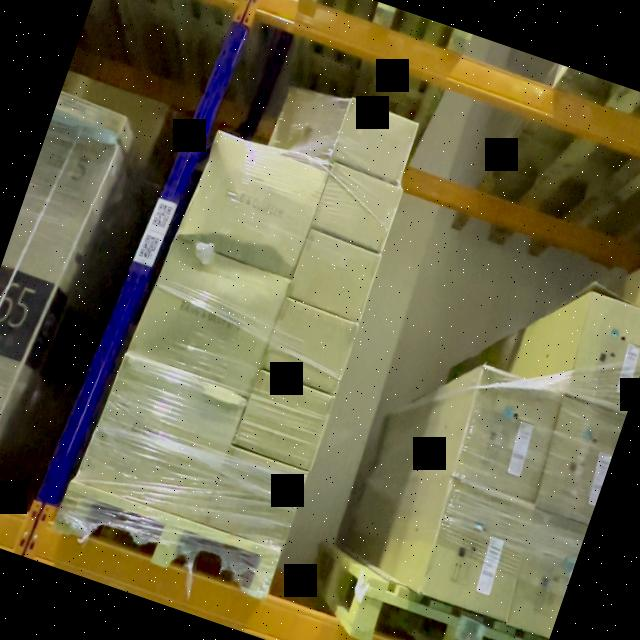box: (80, 359, 245, 523), (131, 240, 289, 395), (180, 132, 326, 274), (420, 482, 540, 622), (451, 370, 565, 502), (533, 401, 623, 522), (205, 447, 308, 549), (504, 516, 586, 636), (235, 372, 334, 471), (563, 291, 640, 412), (264, 300, 358, 392), (310, 164, 402, 250), (290, 234, 380, 320), (333, 99, 420, 182), (271, 85, 349, 164)
